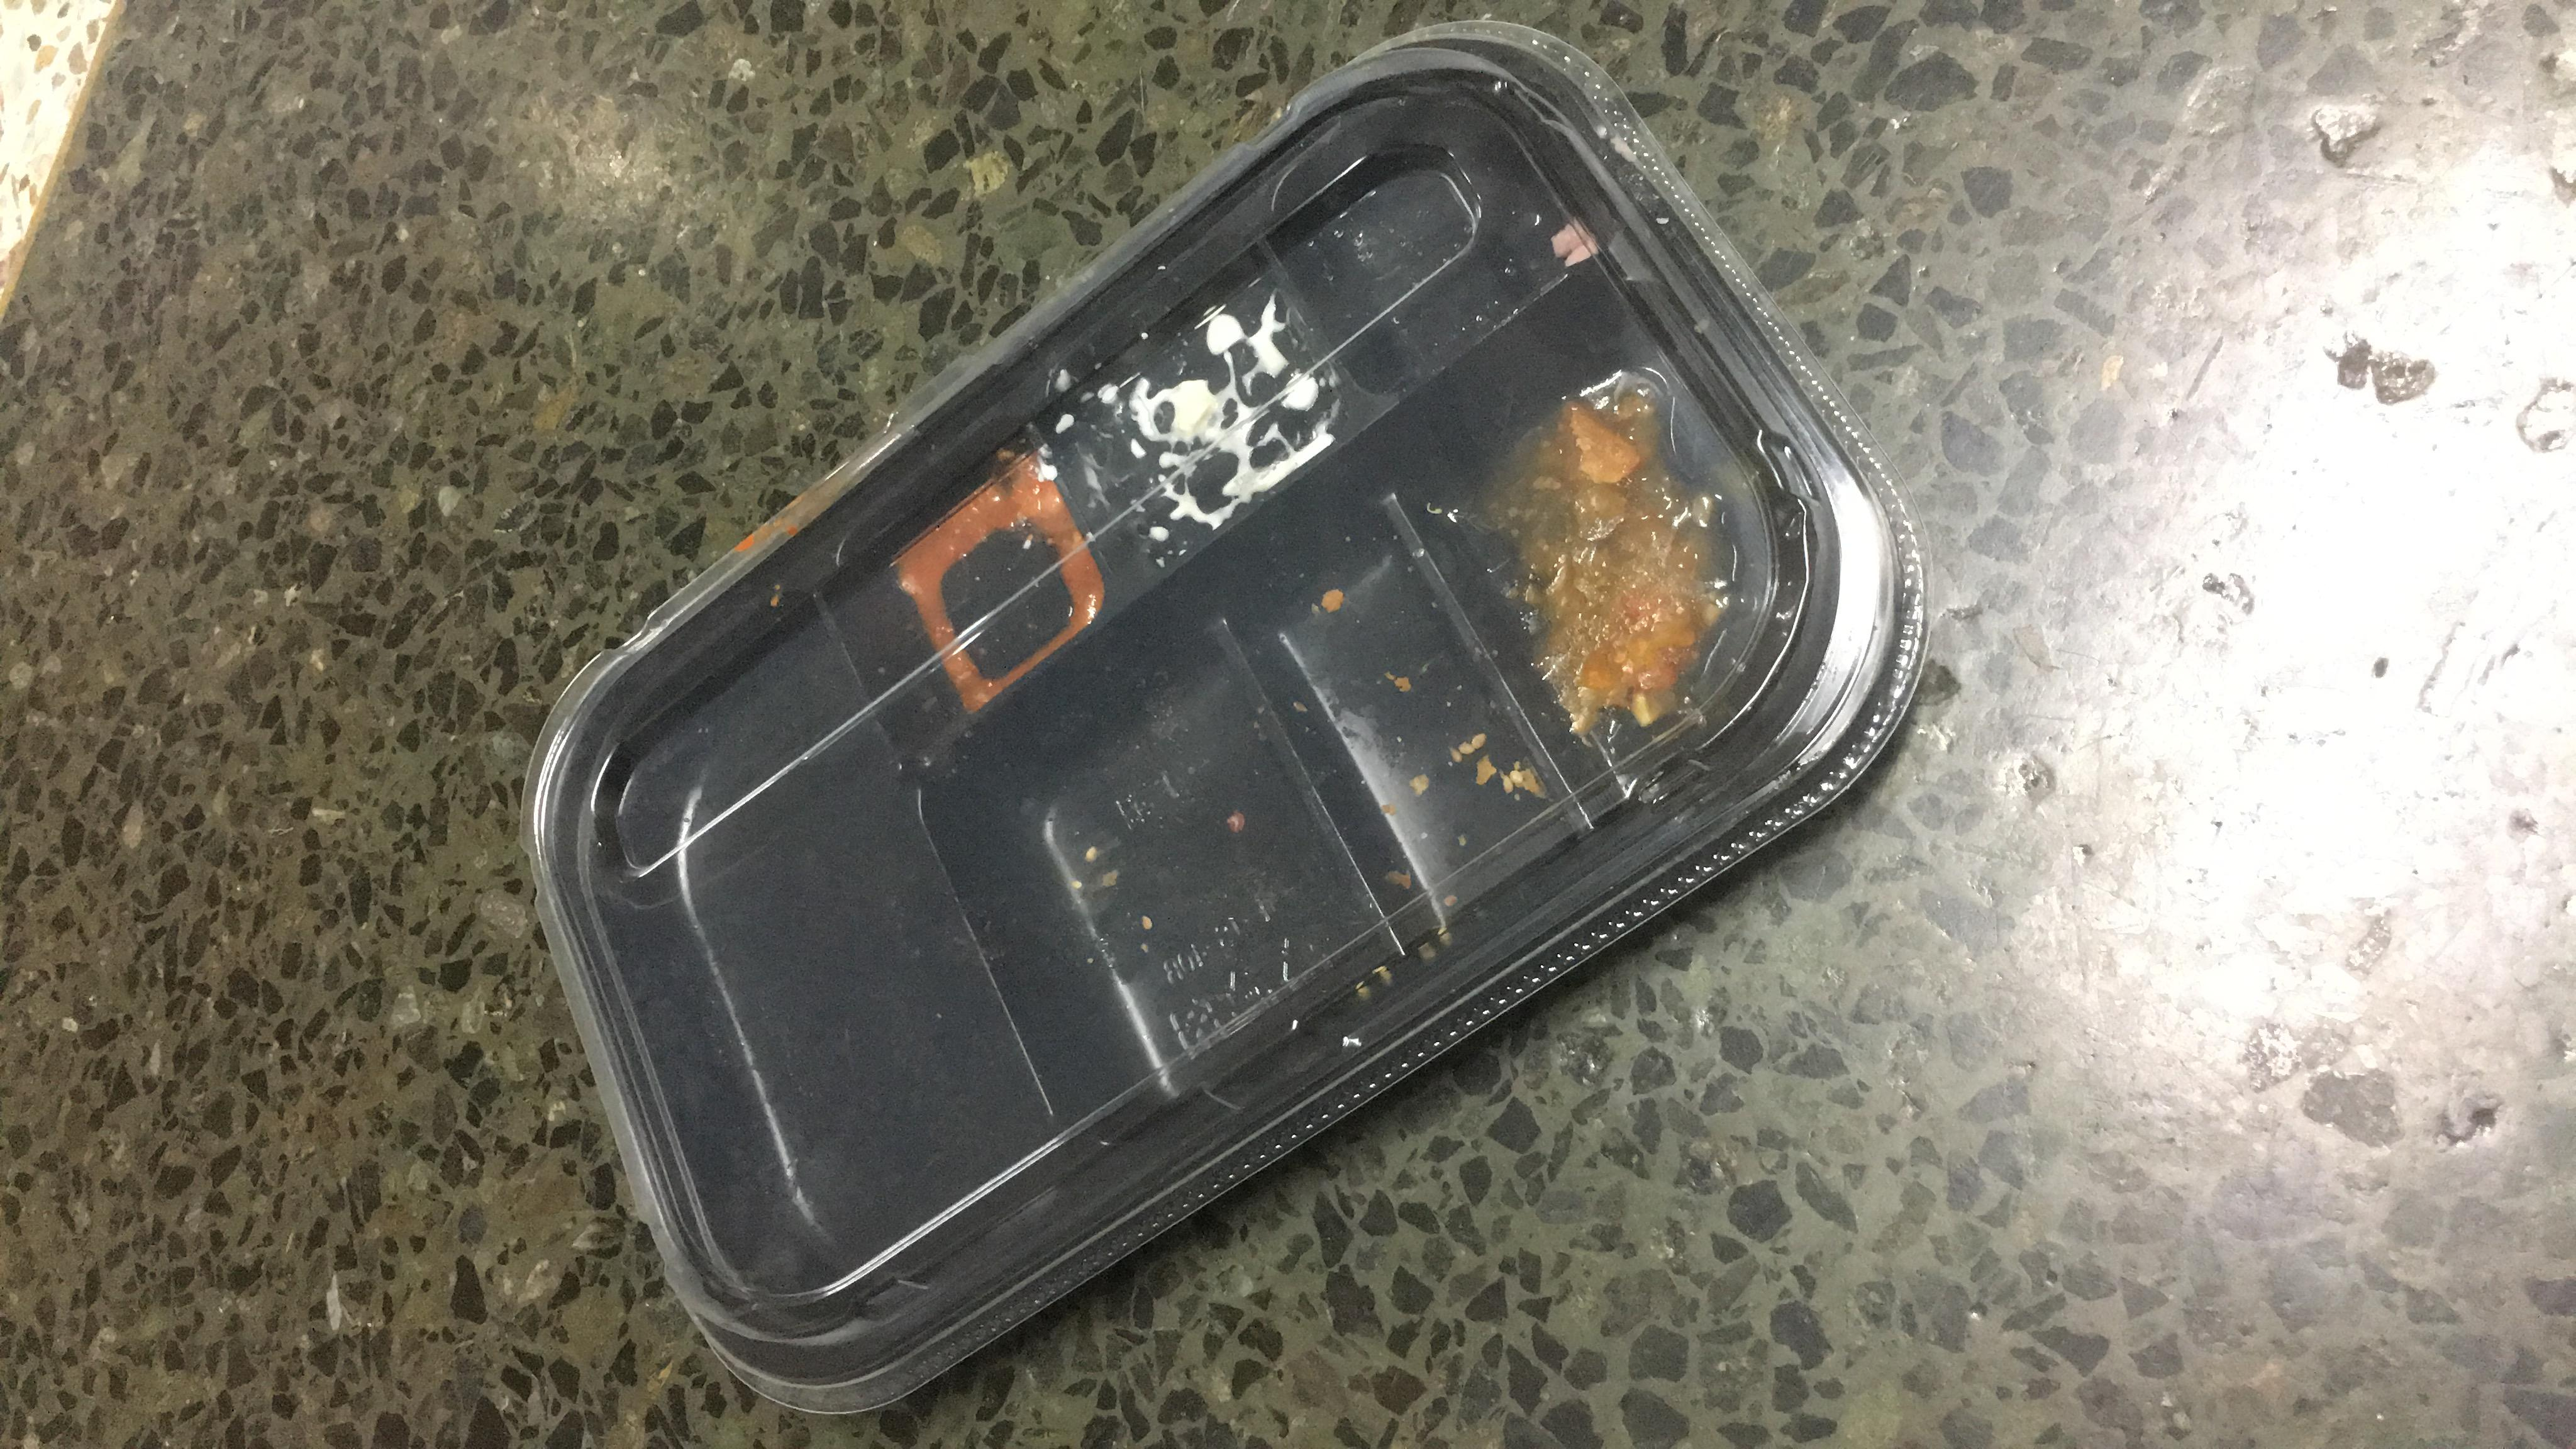bottle: (142, 287, 2473, 1077)
